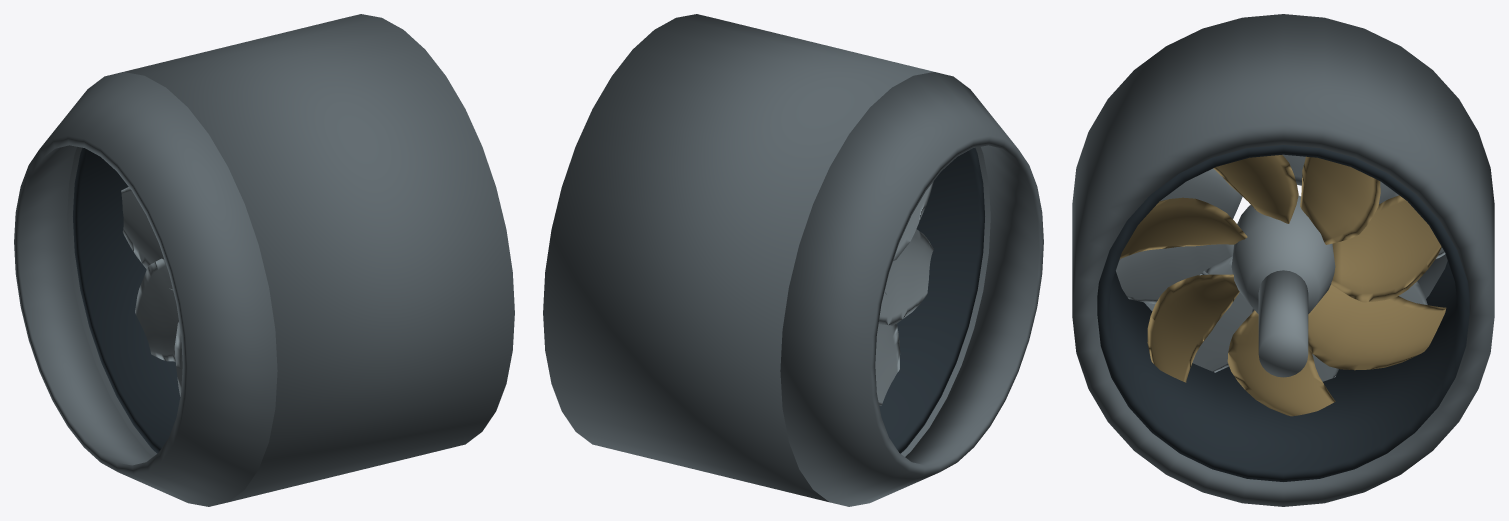
The model's file is FR_PJ_Suffren_LOD0.fbx.
The picture shows the model from 3 angles, left to right: view 1: azimuth 30°, elevation 25°; view 2: azimuth 150°, elevation 25°; view 3: azimuth 270°, elevation 25°; orthographic projection. The views are drawn at different scales.
Visible parts, largest first — view 1: FR_PJ_Suffren_LOD0_Housing.001, FR_PJ_Suffren_LOD0_Nozzle.001, FR_PJ_Suffren_LOD0_Lining.001, FR_PJ_Suffren_LOD0_Stator_08.001, FR_PJ_Suffren_LOD0_Stator_00.001; view 2: FR_PJ_Suffren_LOD0_Housing.001, FR_PJ_Suffren_LOD0_Nozzle.001, FR_PJ_Suffren_LOD0_Lining.001, FR_PJ_Suffren_LOD0_Stator_05.001, FR_PJ_Suffren_LOD0_Stator_06.001, FR_PJ_Suffren_LOD0_Stator_04.001; view 3: FR_PJ_Suffren_LOD0_Housing.001, FR_PJ_Suffren_LOD0_Lining.001, FR_PJ_Suffren_LOD0_Rotor_06.001, FR_PJ_Suffren_LOD0_Rotor_00.001, FR_PJ_Suffren_LOD0_Hub.001, FR_PJ_Suffren_LOD0_Rotor_04.001, FR_PJ_Suffren_LOD0_Rotor_01.001, FR_PJ_Suffren_LOD0_Shaft.001, FR_PJ_Suffren_LOD0_Rotor_05.001, FR_PJ_Suffren_LOD0_Rotor_03.001, FR_PJ_Suffren_LOD0_Stator_05.001, FR_PJ_Suffren_LOD0_Rotor_02.001 (+3 smaller).
Part boxes in pixels (x1=…): FR_PJ_Suffren_LOD0_Housing.001: x1=67, y1=14, x2=514, y2=502; FR_PJ_Suffren_LOD0_Nozzle.001: x1=14, y1=72, x2=277, y2=506; FR_PJ_Suffren_LOD0_Lining.001: x1=73, y1=148, x2=180, y2=453; FR_PJ_Suffren_LOD0_Stator_08.001: x1=135, y1=258, x2=178, y2=361; FR_PJ_Suffren_LOD0_Stator_00.001: x1=121, y1=187, x2=172, y2=290; FR_PJ_Suffren_LOD0_Housing.001: x1=543, y1=14, x2=990, y2=502; FR_PJ_Suffren_LOD0_Nozzle.001: x1=780, y1=72, x2=1043, y2=506; FR_PJ_Suffren_LOD0_Lining.001: x1=879, y1=148, x2=984, y2=453; FR_PJ_Suffren_LOD0_Stator_05.001: x1=878, y1=229, x2=933, y2=325; FR_PJ_Suffren_LOD0_Stator_06.001: x1=875, y1=291, x2=900, y2=405; FR_PJ_Suffren_LOD0_Stator_04.001: x1=893, y1=181, x2=933, y2=260; FR_PJ_Suffren_LOD0_Housing.001: x1=1072, y1=14, x2=1494, y2=506; FR_PJ_Suffren_LOD0_Lining.001: x1=1097, y1=145, x2=1469, y2=481; FR_PJ_Suffren_LOD0_Rotor_06.001: x1=1308, y1=284, x2=1446, y2=370; FR_PJ_Suffren_LOD0_Rotor_00.001: x1=1331, y1=195, x2=1441, y2=302; FR_PJ_Suffren_LOD0_Hub.001: x1=1231, y1=195, x2=1335, y2=313; FR_PJ_Suffren_LOD0_Rotor_04.001: x1=1147, y1=274, x2=1239, y2=382; FR_PJ_Suffren_LOD0_Rotor_01.001: x1=1300, y1=156, x2=1380, y2=244; FR_PJ_Suffren_LOD0_Shaft.001: x1=1258, y1=270, x2=1308, y2=377; FR_PJ_Suffren_LOD0_Rotor_05.001: x1=1227, y1=310, x2=1335, y2=416; FR_PJ_Suffren_LOD0_Rotor_03.001: x1=1120, y1=197, x2=1247, y2=258; FR_PJ_Suffren_LOD0_Stator_05.001: x1=1116, y1=244, x2=1233, y2=303; FR_PJ_Suffren_LOD0_Rotor_02.001: x1=1213, y1=155, x2=1298, y2=223.
Size of the model in its own units: 534 by 530 by 530.
